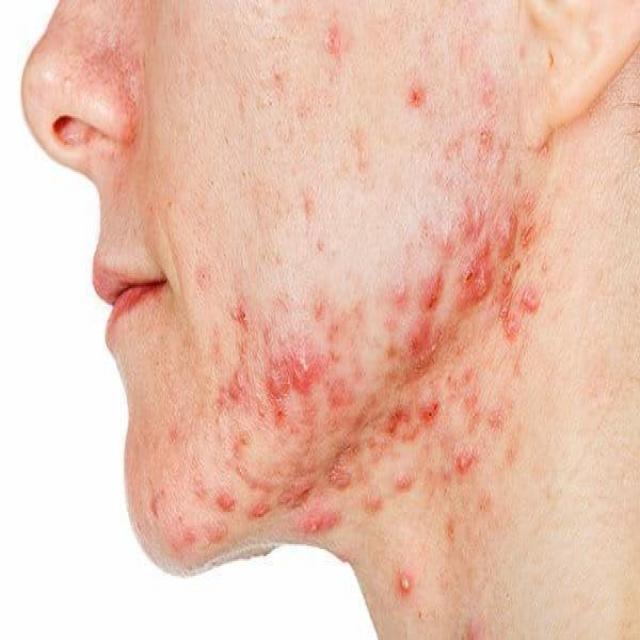Pimples: (393, 252, 446, 382), (374, 384, 458, 446), (260, 335, 320, 421), (288, 490, 353, 549), (453, 238, 496, 322), (188, 229, 229, 315), (308, 60, 349, 136), (496, 196, 539, 266), (316, 434, 361, 492), (257, 52, 291, 123), (388, 556, 422, 615), (466, 115, 501, 167), (518, 270, 552, 322), (399, 73, 433, 124), (320, 367, 352, 419), (355, 476, 388, 524), (212, 480, 242, 520), (453, 438, 480, 481), (248, 495, 278, 532), (392, 463, 419, 496)
